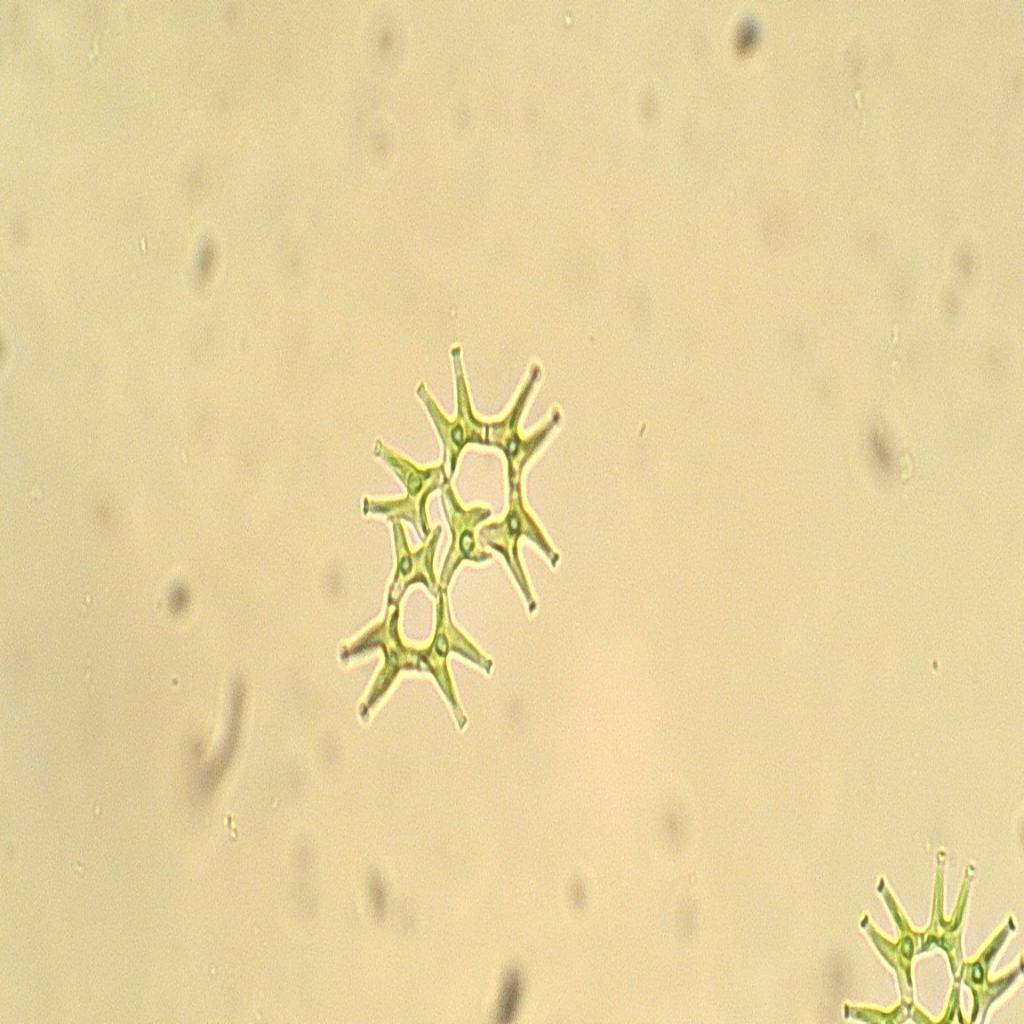Pediastrum_CFI: (323, 304, 574, 784)
